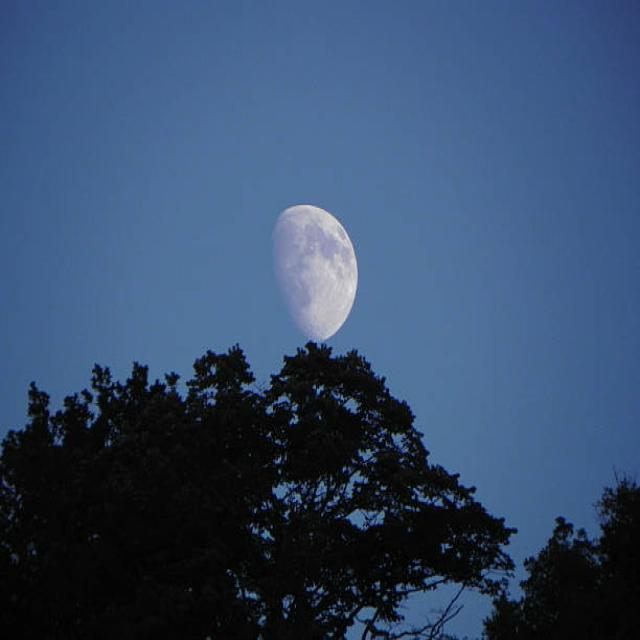moon: (248, 206, 358, 345)
